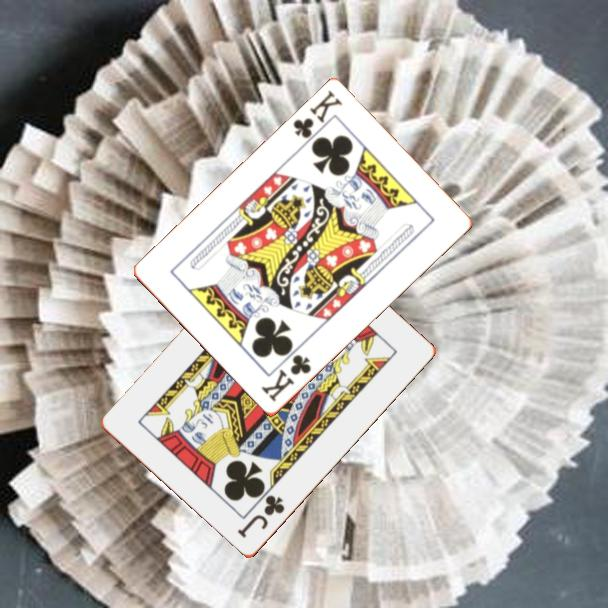c11: (233, 492, 288, 541)
c13: (290, 87, 346, 142), (258, 351, 314, 405)
